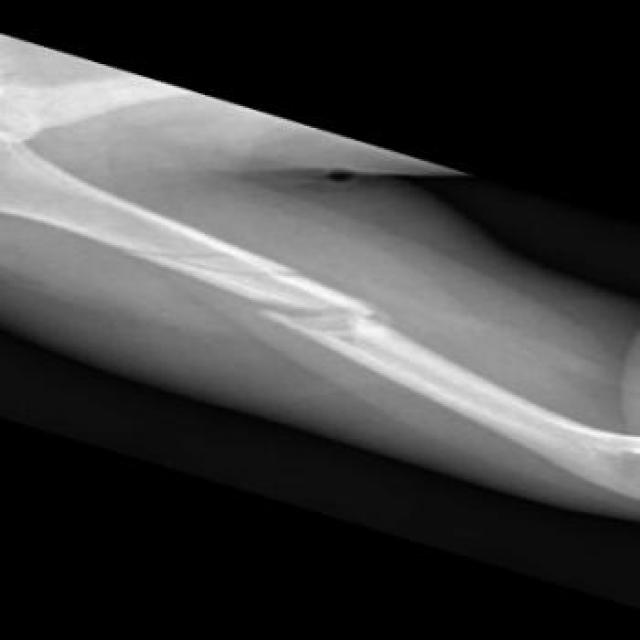Fracture: (130, 234, 328, 294), (254, 298, 401, 349)
